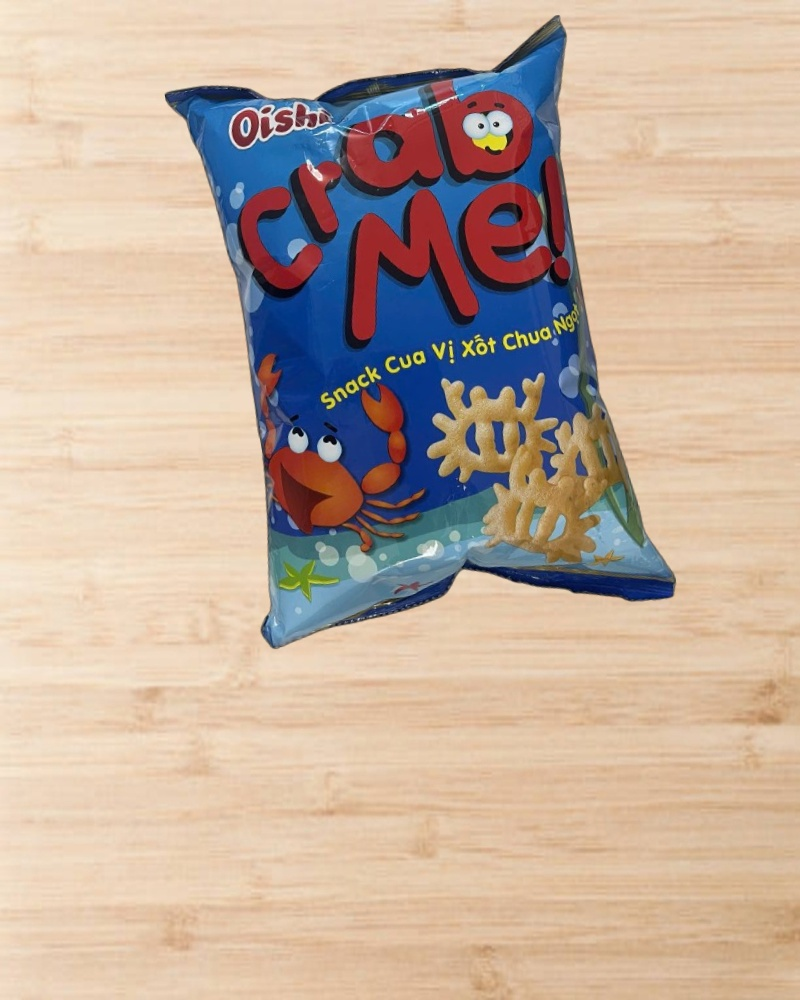Snack chay: (164, 13, 679, 671)
